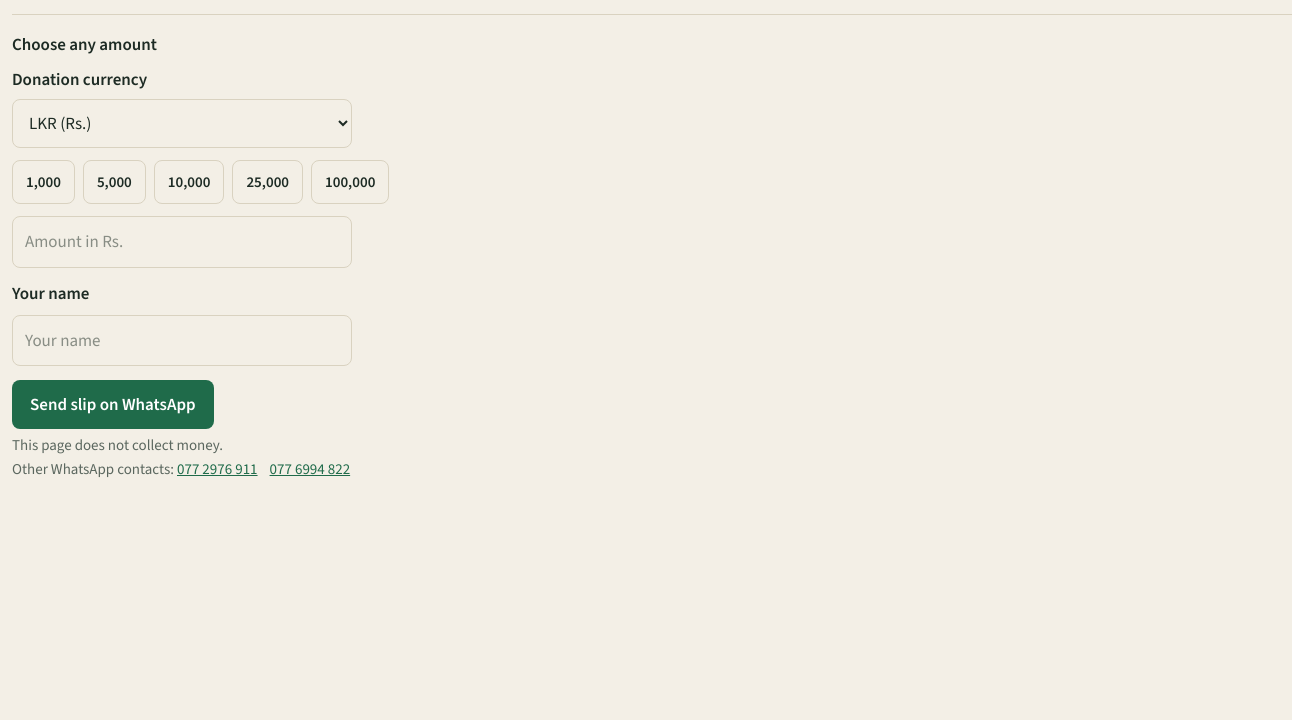
Test case: DonationForm › blocks invalid amounts before opening WhatsApp
This screenshot has width=1292, height=720.
Click the link "Send slip on WhatsApp": (113, 404) [12, 380, 214, 429]
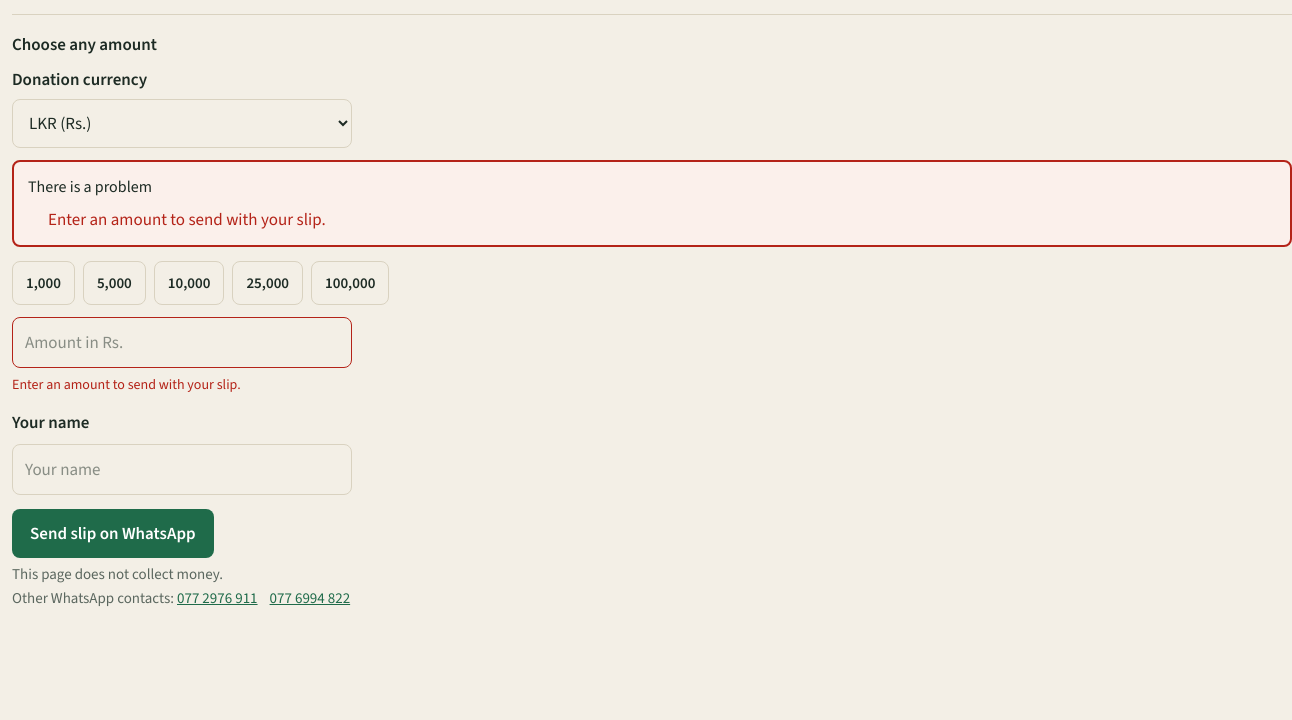
Now the message shows "Enter an amount to send with your slip.", box [48, 208, 326, 231]
